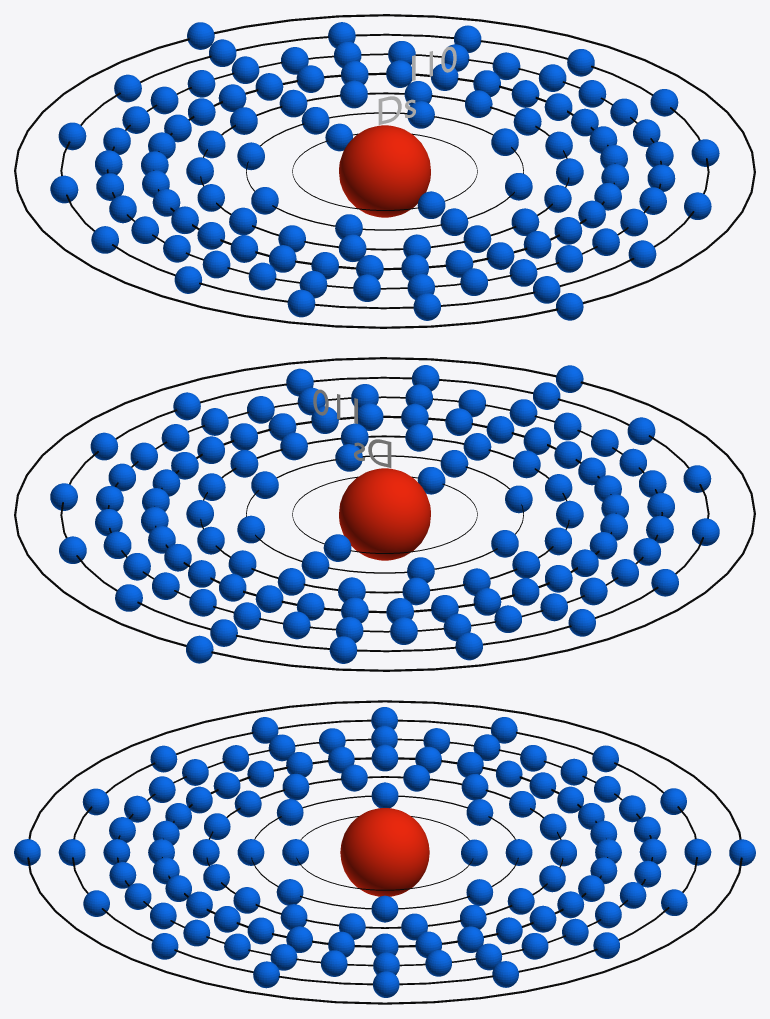
The picture shows the model from 3 angles, top to bottom: view 1: azimuth 30°, elevation 25°; view 2: azimuth 150°, elevation 25°; view 3: azimuth 270°, elevation 25°; orthographic projection. The views are drawn at different scales.
Visible parts, largest first — view 1: Ds5, Ds4, Ds3, Ds6, Proton, Ds2, n7, n6, n5, Ds7, Ds1, n3 (+2 smaller); view 2: Ds5, Ds4, Ds3, Ds6, Proton, Ds2, n7, n6, n5, Ds7, Ds1, n3 (+2 smaller); view 3: Ds5, Ds4, Ds3, Ds6, Proton, Ds2, n7, n6, n5, Ds1, Ds7, n3 (+2 smaller).
Boxes of the visible parts, x1,y1,x2,y2 form: Ds5: [95, 41, 675, 301]; Ds4: [141, 60, 628, 280]; Ds3: [186, 80, 583, 261]; Ds6: [50, 22, 719, 320]; Proton: [339, 125, 430, 217]; Ds2: [237, 101, 532, 239]; n7: [14, 14, 755, 328]; n6: [60, 33, 709, 309]; n5: [106, 53, 661, 289]; Ds7: [187, 22, 583, 320]; Ds1: [325, 123, 445, 218]; n3: [200, 92, 569, 250]; Ds5: [95, 384, 674, 644]; Ds4: [141, 403, 628, 623]; Ds3: [186, 423, 583, 605]; Ds6: [50, 365, 719, 663]; Proton: [339, 468, 430, 560]; Ds2: [237, 444, 532, 582]; n7: [14, 357, 755, 671]; n6: [60, 376, 709, 652]; n5: [107, 396, 663, 632]; Ds7: [186, 365, 583, 663]; Ds1: [323, 467, 445, 561]; n3: [200, 435, 569, 593]; Ds5: [103, 725, 666, 976]; Ds4: [148, 744, 621, 957]; Ds3: [193, 764, 576, 940]; Ds6: [58, 707, 711, 997]; Proton: [340, 808, 429, 896]; Ds2: [237, 782, 532, 922]; n7: [27, 700, 742, 1004]; n6: [72, 719, 697, 985]; n5: [117, 738, 652, 966]; Ds1: [282, 839, 487, 866]; Ds7: [14, 839, 755, 865]; n3: [206, 776, 563, 928].
Size of the model in its own units: 802 by 180 by 830.
